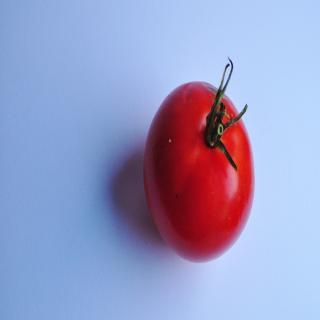tomato: (142, 58, 260, 266)
